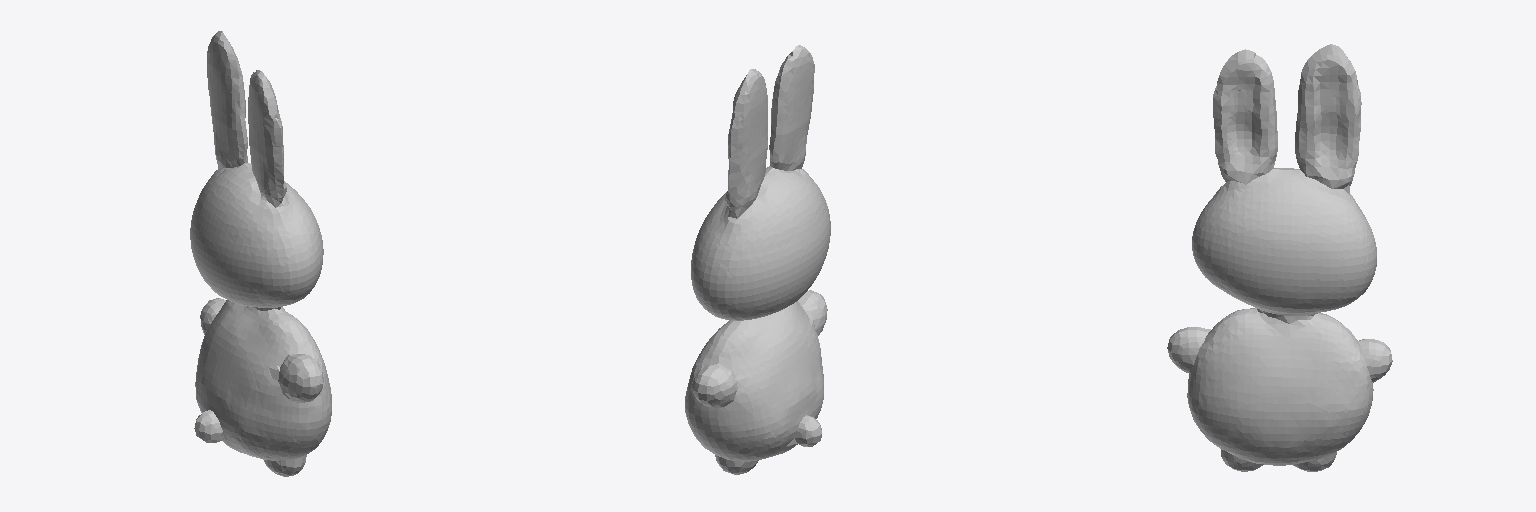
File: rabbit_aug_11.obj
3 views of the same model, side by side, from view 1: azimuth 30°, elevation 25°; view 2: azimuth 150°, elevation 25°; view 3: azimuth 270°, elevation 25° (orthographic).
Size of the model in its own units: 28.65 by 101 by 49.54.